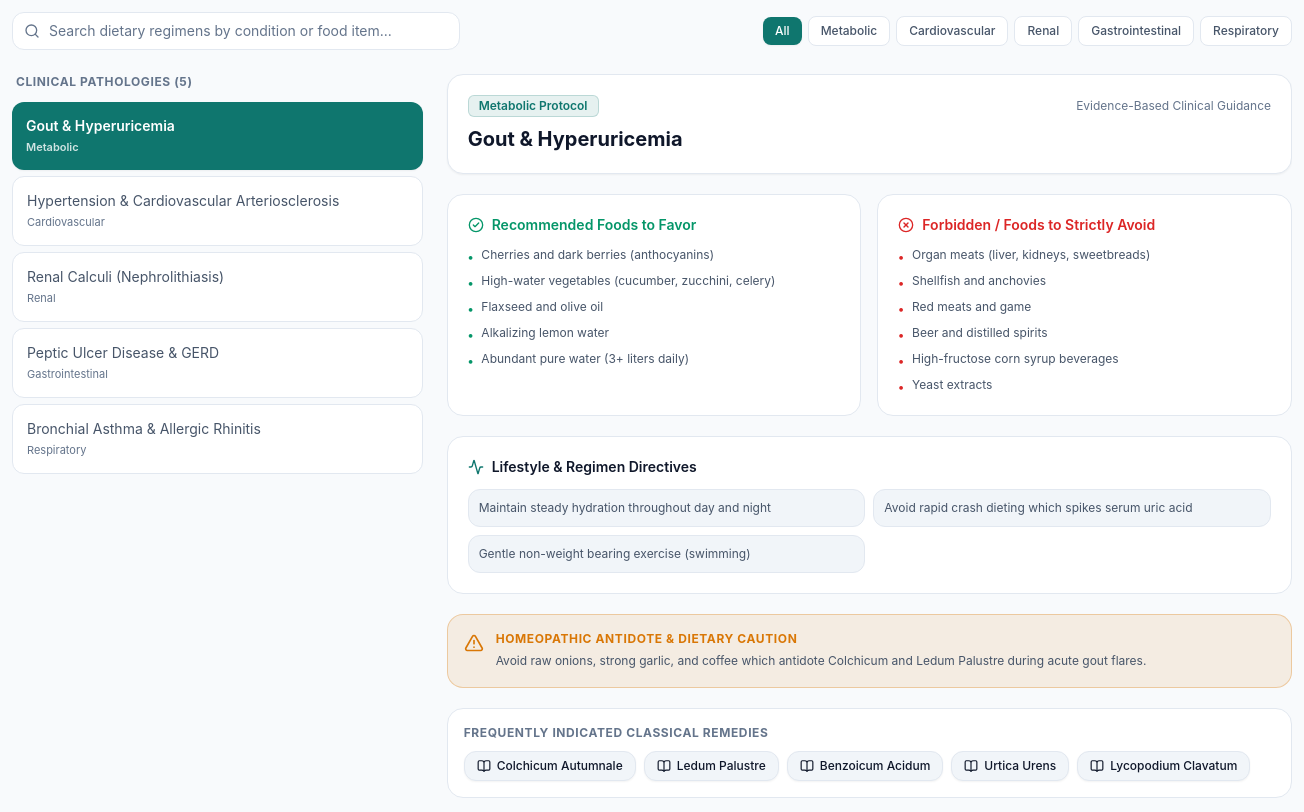
Scenario: DiseaseNutritionView Component › switches active condition on sidebar button click
The image size is (1304, 812).
Expected: the text "Gout & Hyperuricemia" is shown, [26, 116, 175, 136]
Click the text "Renal Calculi (Nephrolithiasis)".
click(126, 277)  # box [27, 267, 224, 287]
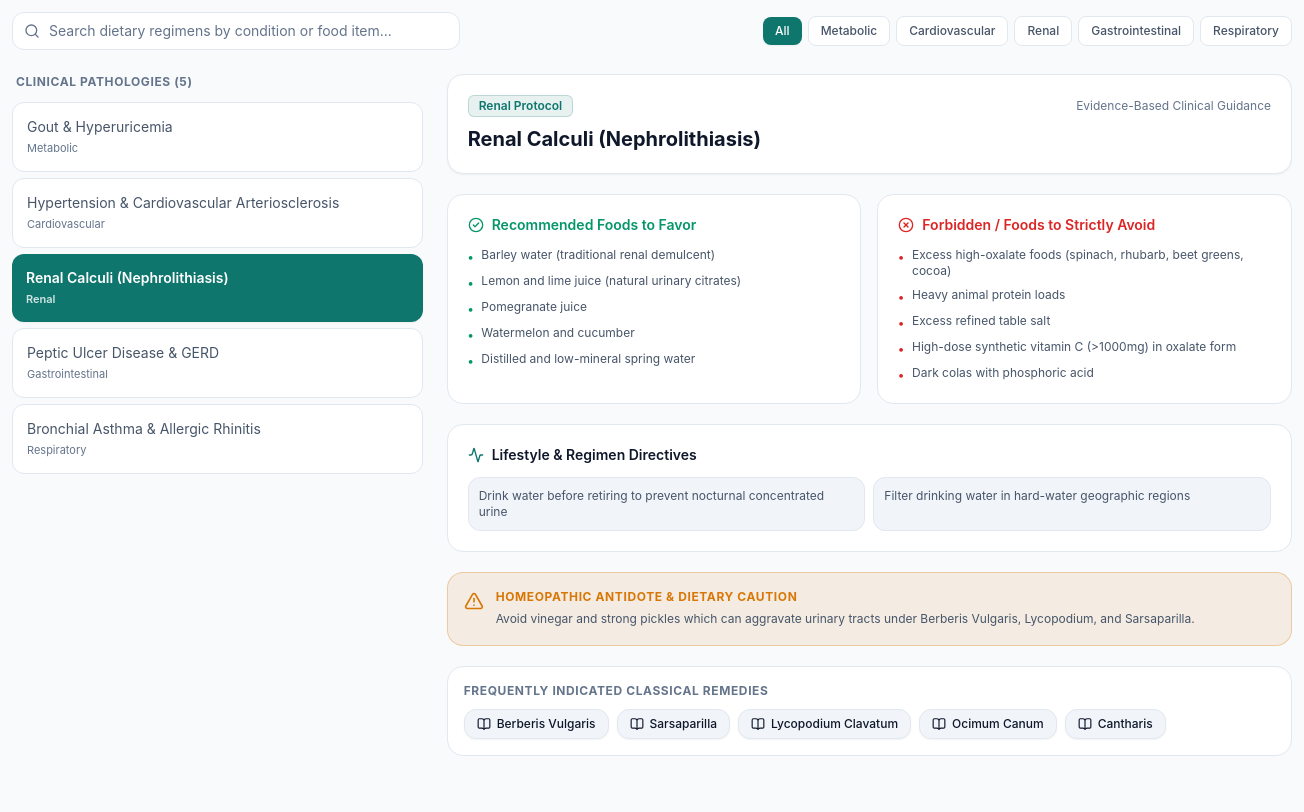
Now the text "Barley water (traditional renal demulcent)" is shown, box [481, 247, 715, 263]
